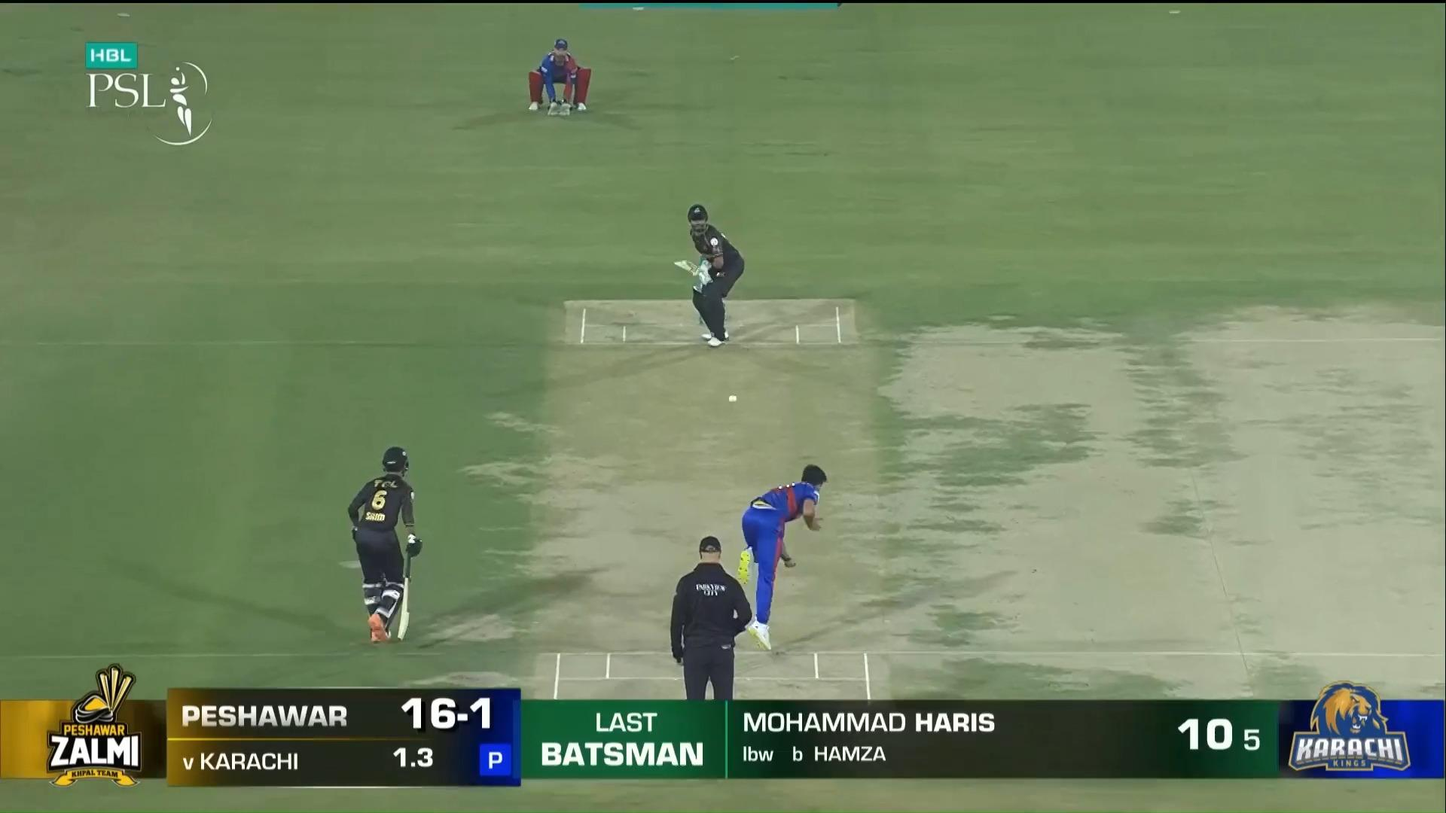batsman: (674, 202, 746, 348)
